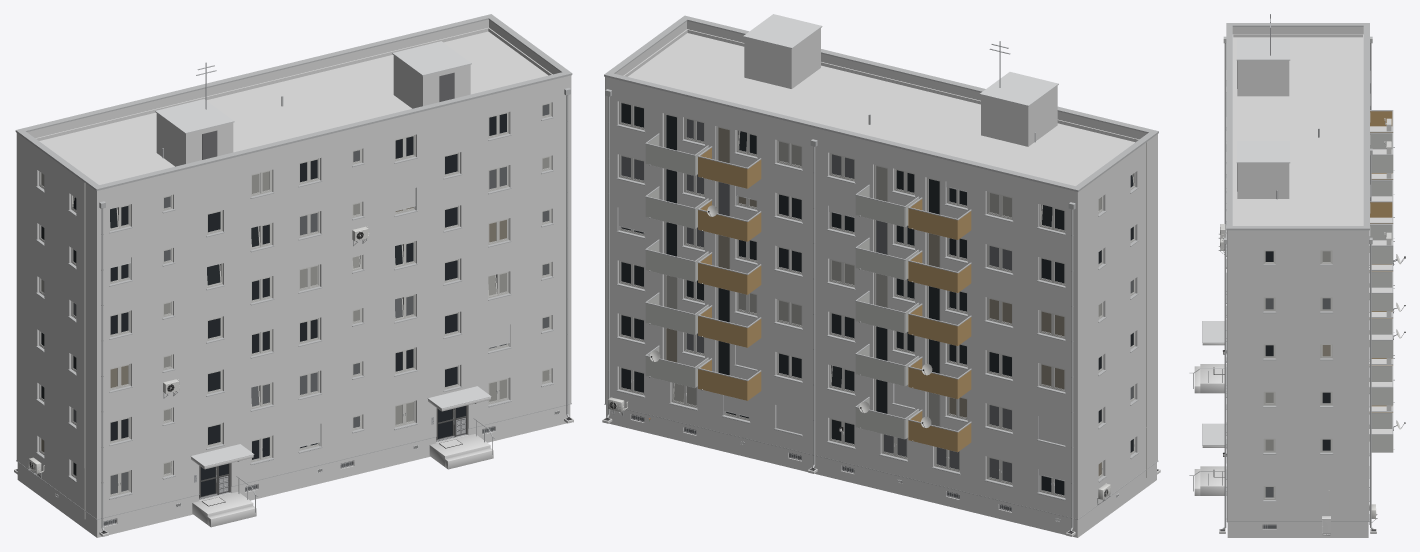
The model's file is cell_m2_1.glb.
The picture shows the model from 3 angles, left to right: view 1: azimuth 30°, elevation 25°; view 2: azimuth 150°, elevation 25°; view 3: azimuth 270°, elevation 25°; orthographic projection. The views are drawn at different scales.
Parts seen in each view (by area): view 1: cell_m2_1; view 2: cell_m2_1; view 3: cell_m2_1.
Boxes of the visible parts, box(x1,y1,x2,y2) form: cell_m2_1: box(14, 14, 573, 537); cell_m2_1: box(602, 14, 1160, 537); cell_m2_1: box(1189, 14, 1405, 537).
Size of the model in its own units: 28.94 by 23.98 by 12.47.
